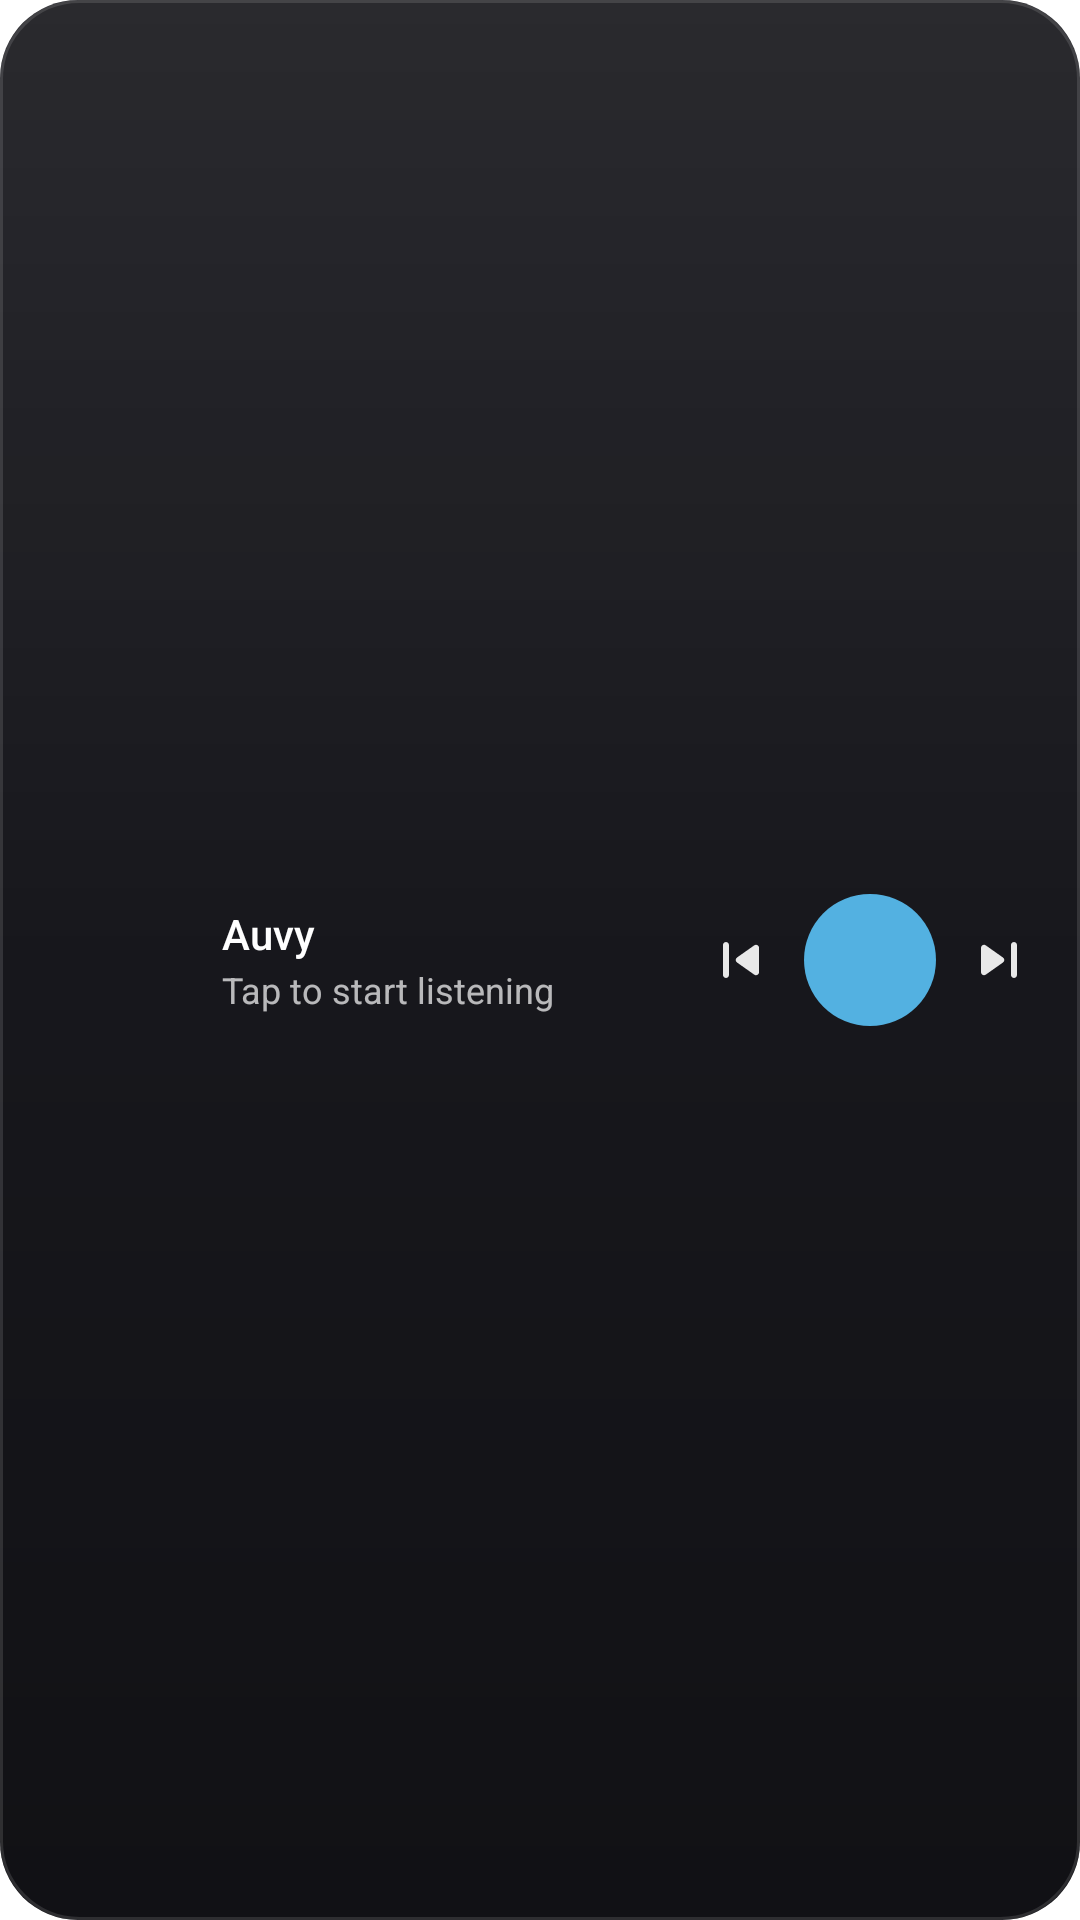

Icons on this 1080px×1920px Android screen, each with its box as bbox(x1, y1, x2, y2):
Next: bbox(981, 942, 1017, 978)
Previous: bbox(723, 942, 759, 978)
